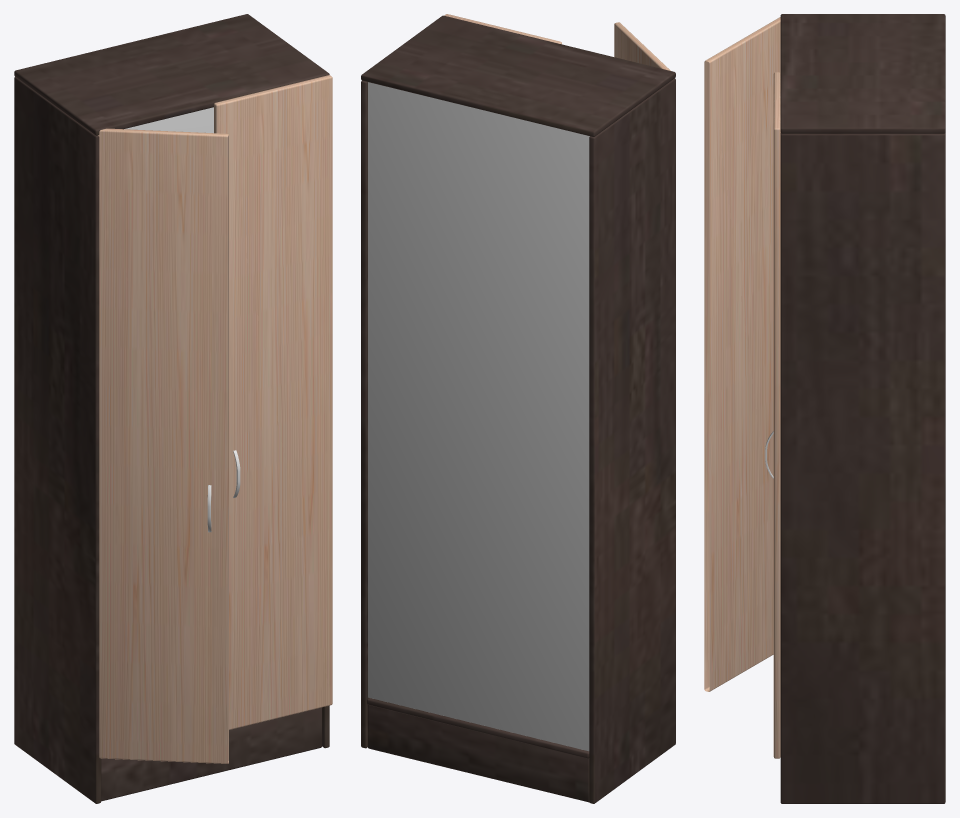
The model's file is wardrobe.gltf.
3 views of the same model, side by side, from view 1: azimuth 30°, elevation 25°; view 2: azimuth 150°, elevation 25°; view 3: azimuth 270°, elevation 25° (orthographic).
Parts seen in each view (by area): view 1: door, Cube.005, bg; view 2: bg, Cube.005, door; view 3: Cube.005, door.
Part boxes in pixels (bbox=[...]): door: bbox=[98, 75, 332, 763]; Cube.005: bbox=[14, 14, 329, 803]; bg: bbox=[124, 107, 213, 133]; bg: bbox=[368, 82, 589, 751]; Cube.005: bbox=[361, 15, 675, 803]; door: bbox=[444, 14, 670, 70]; Cube.005: bbox=[780, 14, 945, 803]; door: bbox=[704, 17, 780, 758].
Size of the model in its own units: 0.8 by 2.2 by 0.7104.
4 materials, 2 textured.
